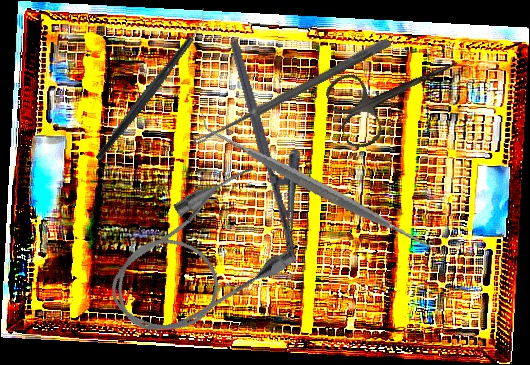Cannula: (88, 157, 308, 357)
Chopper: (59, 7, 243, 162)
Iris Scissors: (321, 30, 474, 153)
Needle Holder: (228, 32, 326, 258)
Spatula Surgical: (201, 72, 435, 303)
Surgical Spoon: (191, 35, 392, 150)
